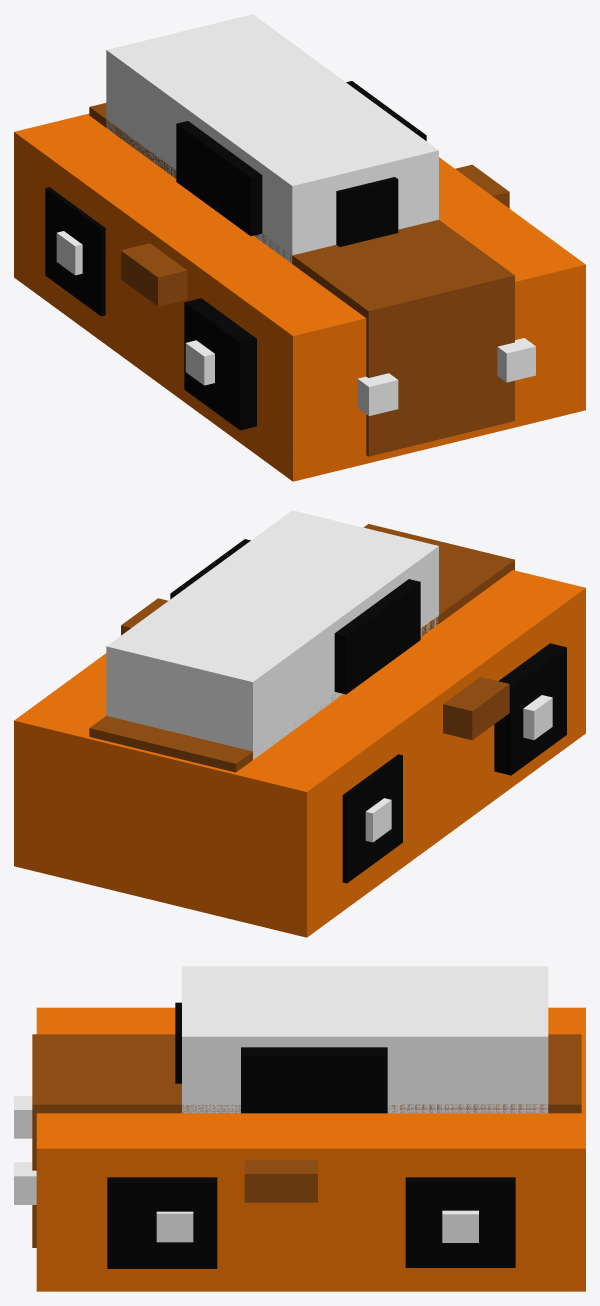
File: green car.fbx
3 views of the same model, one above another, from view 1: azimuth 30°, elevation 25°; view 2: azimuth 150°, elevation 25°; view 3: azimuth 270°, elevation 25° (orthographic).
Visible parts, largest first — view 1: body, top, middle_striped, side_window, front_wheel, back_wheel, wing_mirror, front_window, headlight_left, headlight_right, inner_front_wheel_, inner_back_wheel; view 2: body, top, middle_striped, side_window, front_wheel, back_wheel, wing_mirror, inner_front_wheel_, inner_back_wheel; view 3: body, top, middle_striped, side_window, front_wheel, back_wheel, wing_mirror, inner_back_wheel, inner_front_wheel_, headlight_right, headlight_left, front_window.
Boxes of the visible parts, x1,y1,x2,y2 form: body: (14,113,585,481); top: (106,14,438,263); middle_striped: (89,103,514,456); side_window: (176,81,426,236); front_wheel: (184,298,256,430); back_wheel: (45,187,105,316); wing_mirror: (121,164,509,306); front_window: (336,177,398,246); headlight_left: (357,373,398,415); headlight_right: (497,338,535,382); inner_front_wheel_: (185,340,214,385); inner_back_wheel: (56,231,82,275); body: (14,570,585,937); top: (106,510,438,759); middle_striped: (89,524,514,772); side_window: (170,539,420,694); front_wheel: (494,643,566,775); back_wheel: (342,754,402,883); wing_mirror: (121,598,509,740); inner_front_wheel_: (523,695,552,739); inner_back_wheel: (365,798,391,842); body: (36,1007,585,1291); top: (182,966,548,1113); middle_striped: (32,1034,581,1247); side_window: (241,1047,387,1113); front_wheel: (107,1177,217,1268); back_wheel: (405,1177,515,1267); wing_mirror: (244,1160,317,1202); inner_back_wheel: (442,1210,478,1242); inner_front_wheel_: (156,1211,193,1242); headlight_right: (14,1162,36,1204); headlight_left: (14,1096,32,1138); front_window: (175,1002,181,1083).
Size of the model in its own units: 240 by 146 by 344.
